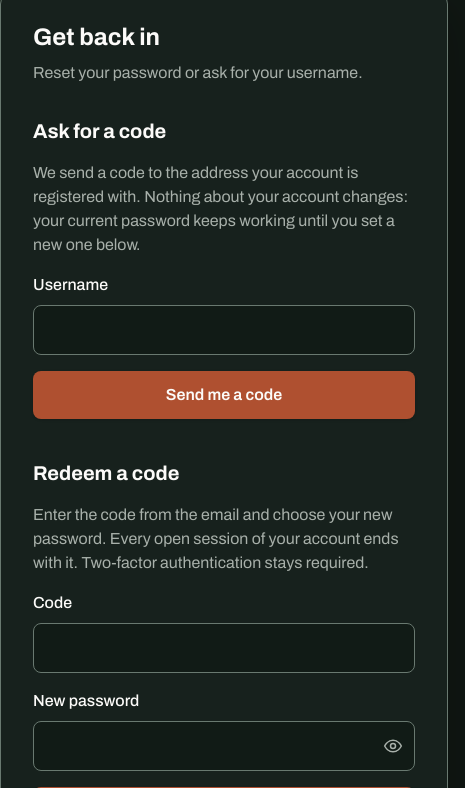
Test case: AccountRecoveryView › given a code and a new password, when they are redeemed, then the page says the password is set
Type "  ABCD-EFGH " into the field with test id "recovery-code" at (224, 648), box 33,623 -> 415,673
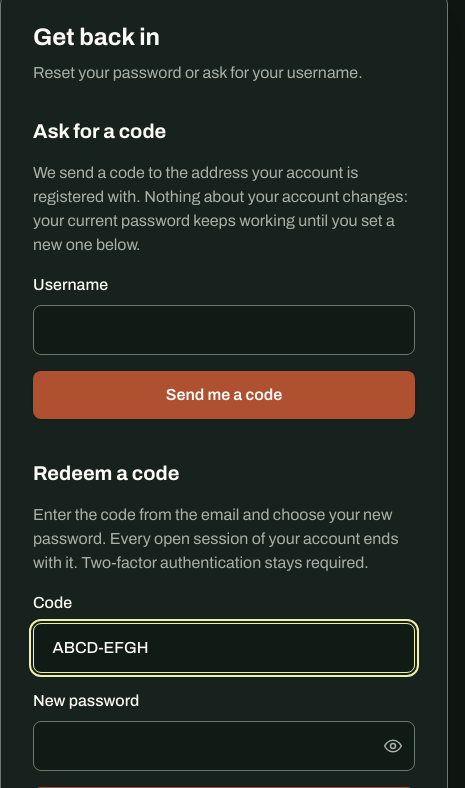
Type "clay-court-evening" into the password field with test id "recovery-new-password" at (224, 746), box 33,721 -> 415,771
(page scrolled)
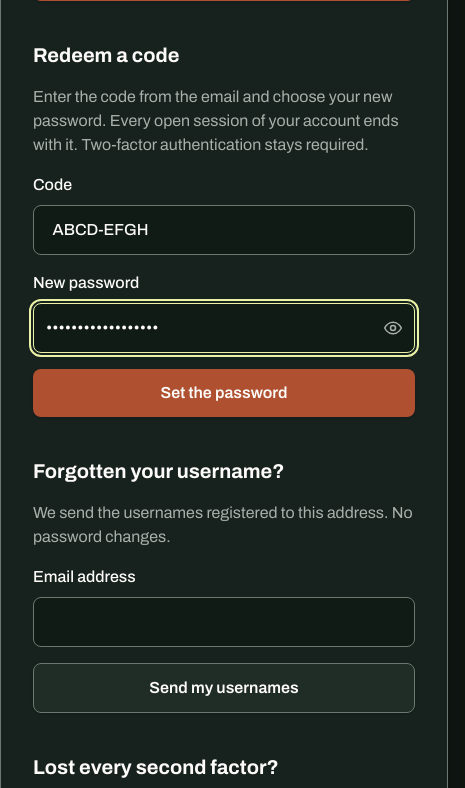
Click the button with test id "recovery-redeem-submit" at (224, 393), box 33,369 -> 415,417
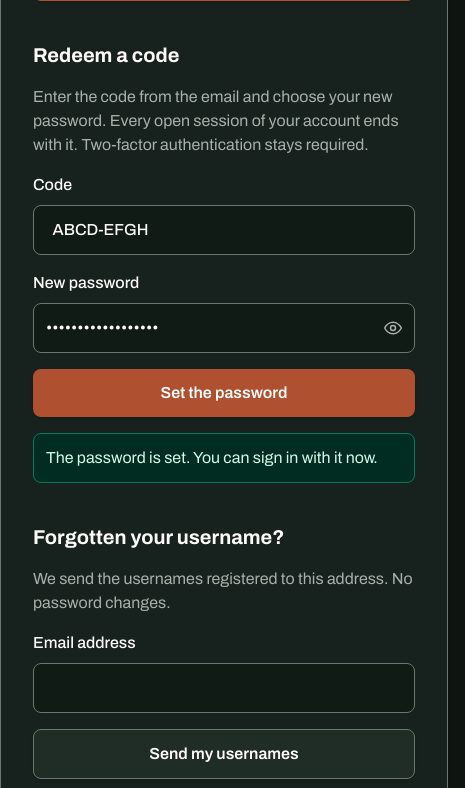
Expected: the message with test id "recovery-sent" reads "The password is set. You can sign in with it now.", 46,449 -> 378,466
